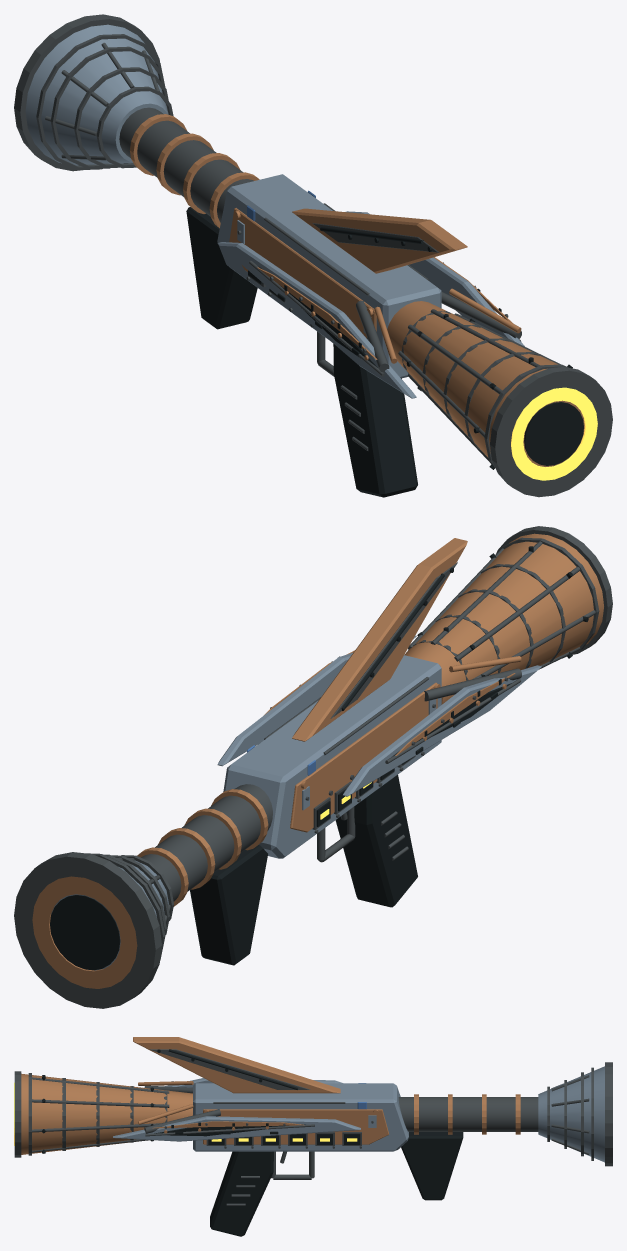
The model's file is kick_2.glb.
3 renders of one model, top to bottom at view 1: azimuth 30°, elevation 25°; view 2: azimuth 150°, elevation 25°; view 3: azimuth 270°, elevation 25°, orthographic. The views are drawn at different scales.
Visible parts, largest first — view 1: Weapon_kick_v1; view 2: Weapon_kick_v1; view 3: Weapon_kick_v1.
Boxes of the visible parts, x1,y1,x2,y2 form: Weapon_kick_v1: (14, 14, 612, 497); Weapon_kick_v1: (14, 526, 612, 1008); Weapon_kick_v1: (14, 1037, 612, 1236).
Size of the model in its own units: 0.156 by 0.3139 by 0.884.
